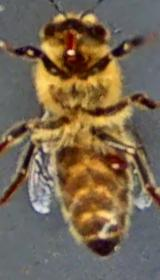varroa_mite: (96, 146, 138, 179)
